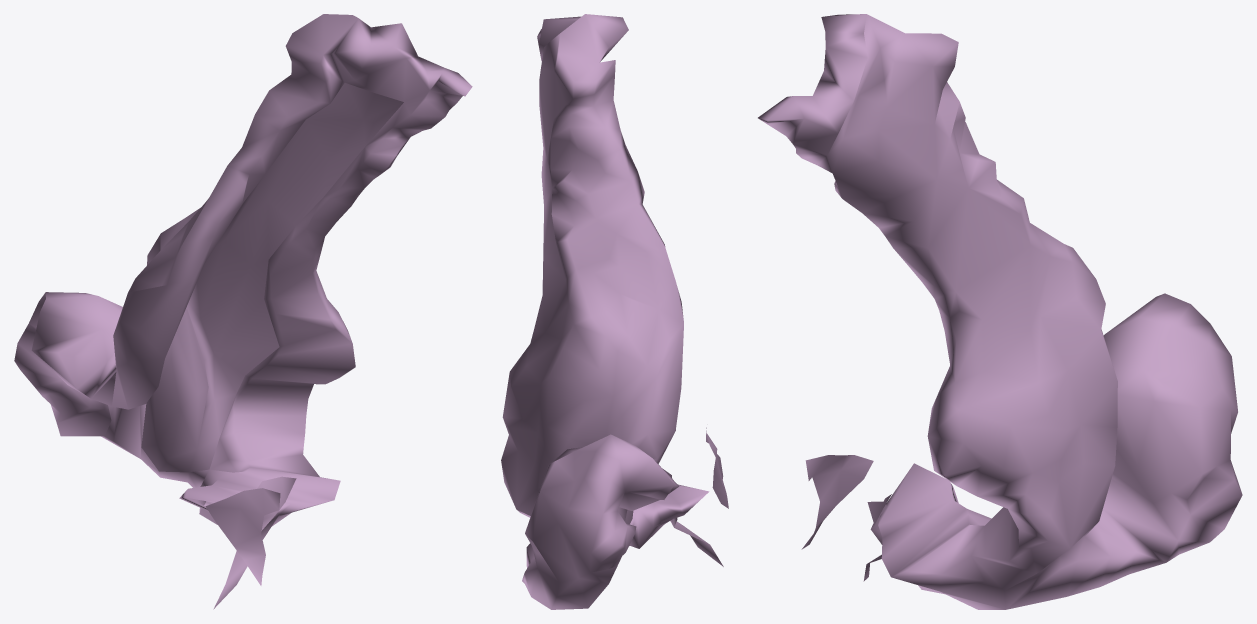
The picture shows the model from 3 angles, left to right: view 1: azimuth 30°, elevation 25°; view 2: azimuth 150°, elevation 25°; view 3: azimuth 270°, elevation 25°; orthographic projection. The views are drawn at different scales.
Visible parts, largest first — view 1: 右侧枕颞内侧回（海马旁回）; view 2: 右侧枕颞内侧回（海马旁回）; view 3: 右侧枕颞内侧回（海马旁回）.
Boxes of the visible parts, x1,y1,x2,y2 form: 右侧枕颞内侧回（海马旁回）: (14, 14, 472, 609); 右侧枕颞内侧回（海马旁回）: (501, 14, 728, 609); 右侧枕颞内侧回（海马旁回）: (758, 14, 1242, 609).
Size of the model in its own units: 0.0465 by 0.0866 by 0.0584.
